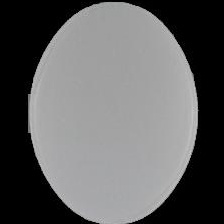61919-718: (0, 0, 224, 224)
